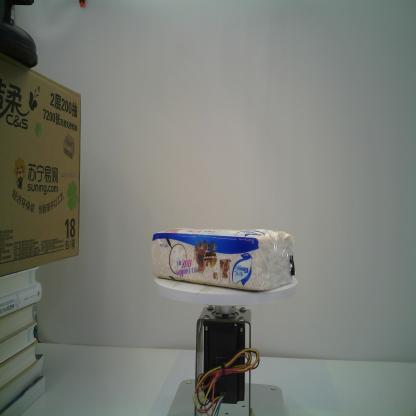Tissue: (150, 227, 296, 291)
